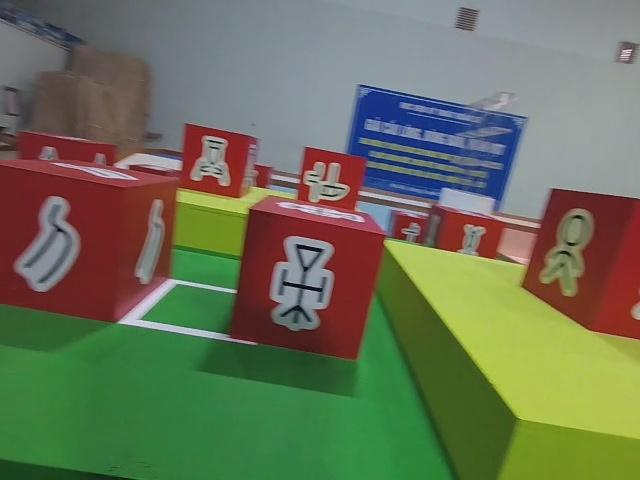R2 Real: (0, 153, 182, 326), (227, 193, 388, 363), (519, 185, 640, 342), (179, 121, 260, 199), (419, 201, 506, 265), (295, 145, 368, 216)
